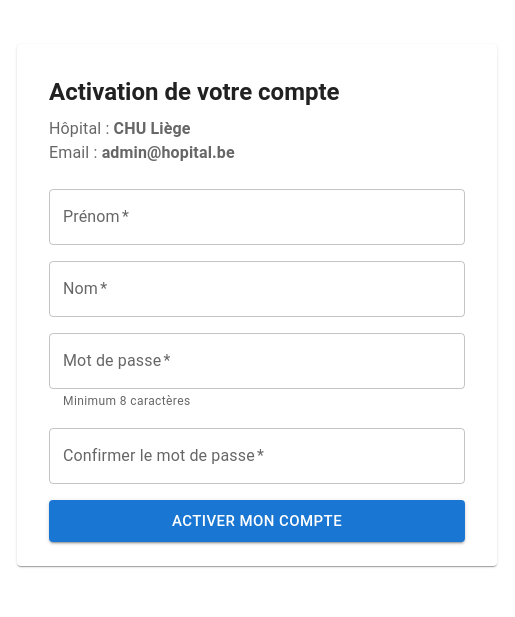
Test case: HospitalAdminSetupPage › shows a validation error when passwords do not match
Expected: the button "Activer mon compte" is shown, [49,500,465,542]
Step 1. Type "Jean" into the field labelled "Prénom *" → point(257, 217), box [49,189,465,245]
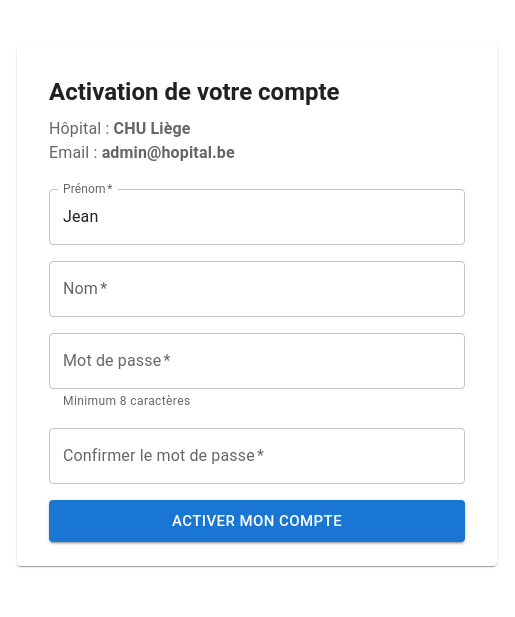
Step 2. Type "Dupont" into the field labelled "Nom *" → point(257, 289), box [49,261,465,317]
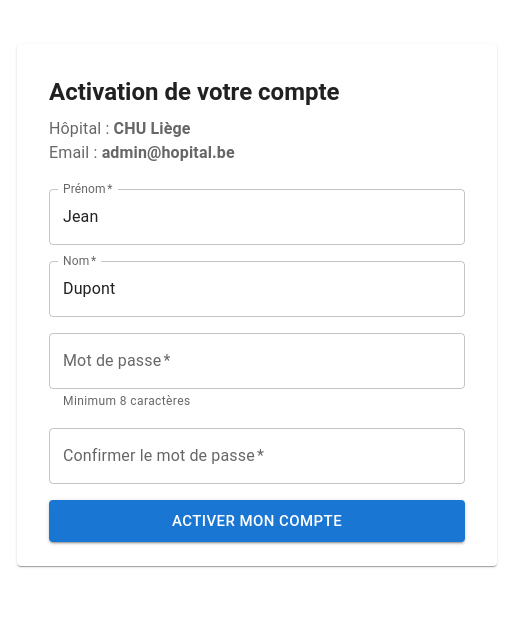
Step 3. Type "motdepasse1" into the password field labelled "Mot de passe *" → point(257, 361), box [49,333,465,389]
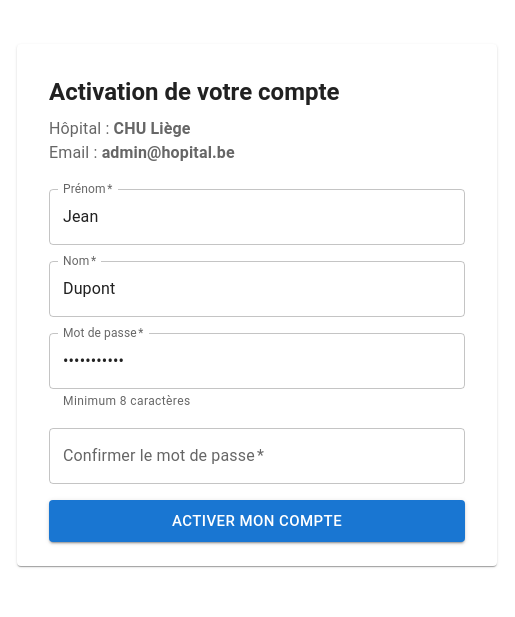
Step 4. Type "motdepasse2" into the password field labelled "Confirmer le mot de passe *" → point(257, 456), box [49,428,465,484]
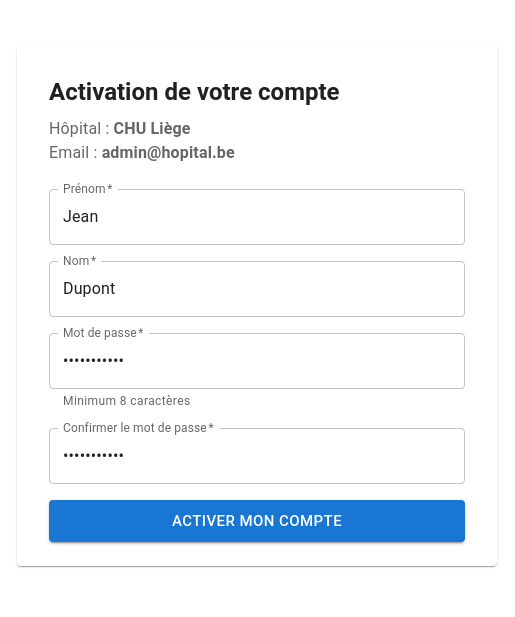
Step 5. Click the button "Activer mon compte" → point(257, 521), box [49,500,465,542]
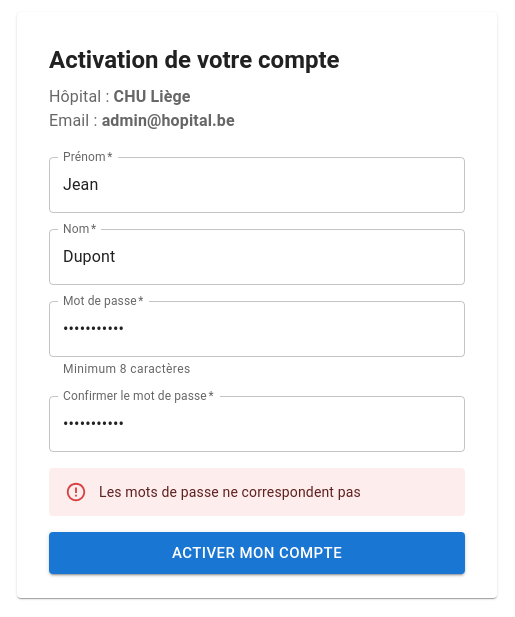
Result: the text "Les mots de passe ne correspondent pas" is shown at [99,484,361,500]
